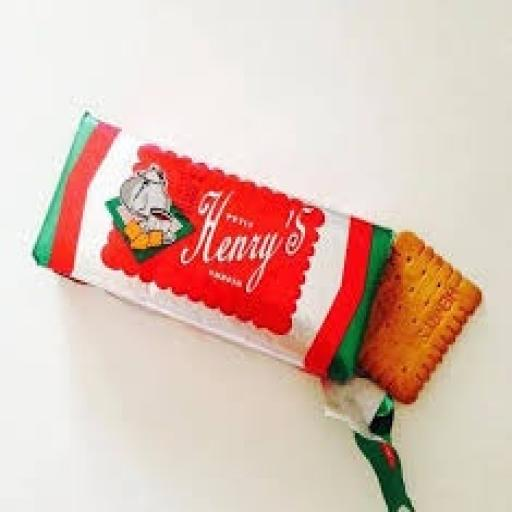golden: (52, 88, 443, 440)
